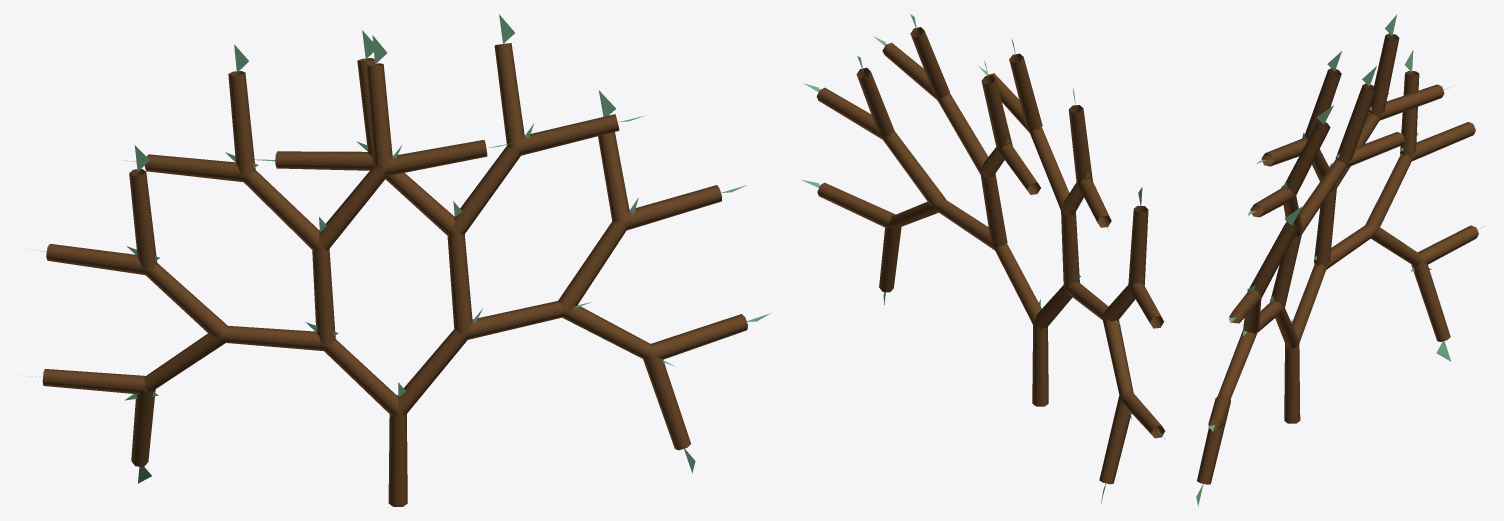
The model's file is plant_seed_100.obj.
The picture shows the model from 3 angles, left to right: view 1: azimuth 30°, elevation 25°; view 2: azimuth 150°, elevation 25°; view 3: azimuth 270°, elevation 25°; orthographic projection. The views are drawn at different scales.
Visible parts, largest first — view 1: stems, leaves; view 2: stems, leaves; view 3: stems, leaves.
Boxes of the visible parts, <box> form: stems: <box>42,43,747,506</box>; leaves: <box>19,14,770,483</box>; stems: <box>816,27,1164,484</box>; leaves: <box>802,14,1165,503</box>; stems: <box>1197,33,1478,484</box>; leaves: <box>1196,14,1485,506</box>.
Size of the model in its own units: 5.73 by 4.22 by 2.95.
